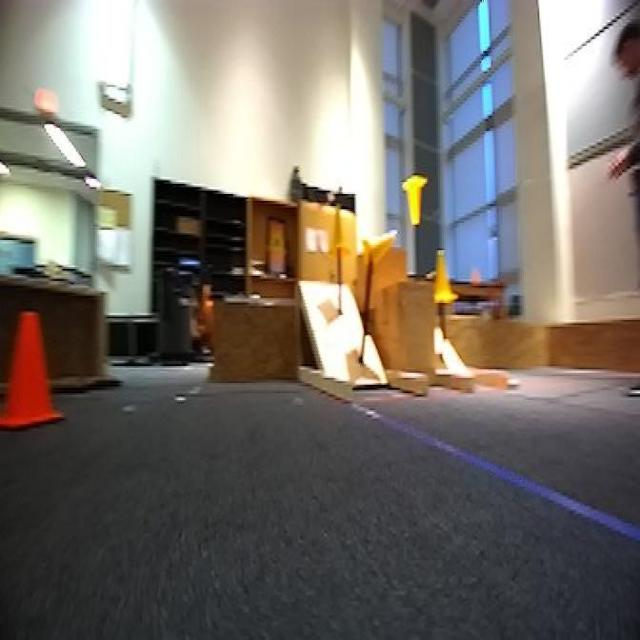frc_cone: (360, 230, 396, 277), (401, 174, 429, 233), (434, 252, 454, 305), (332, 211, 354, 259)
